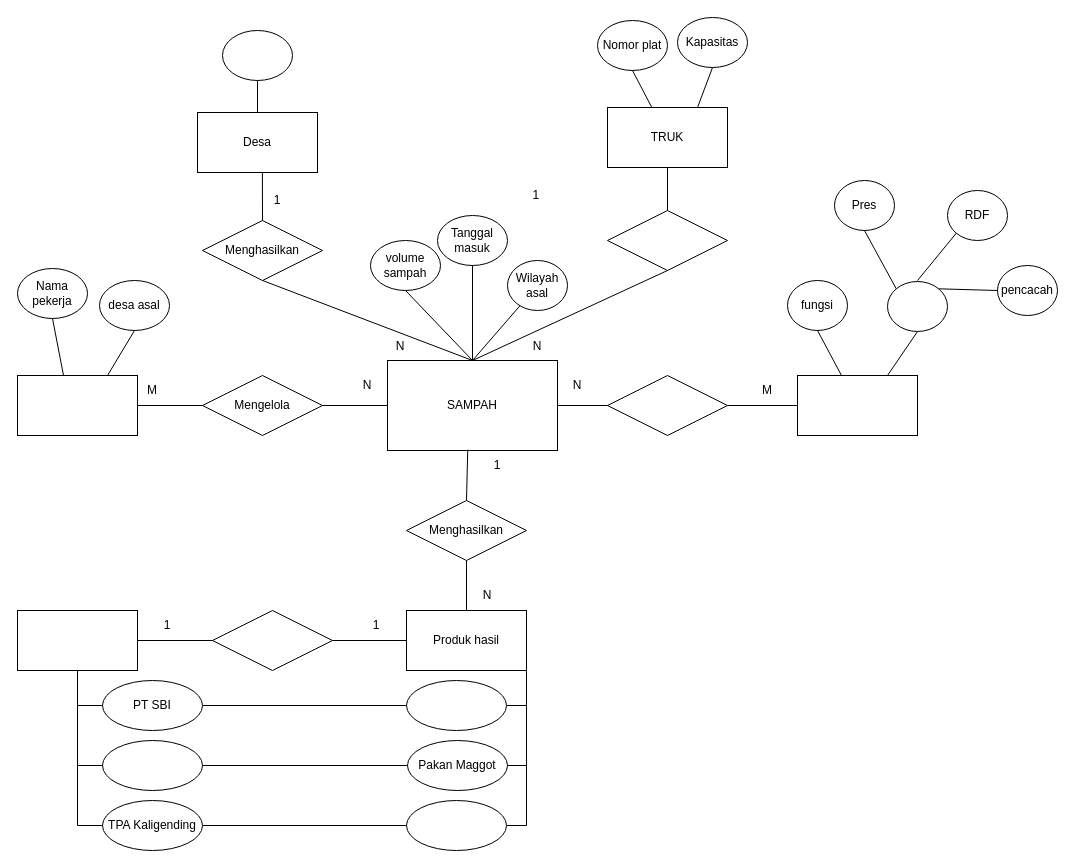
Image size: 1075x868. Some labels were removed from this diagram. Here are the shapes that lost their labels. From the top down, the box of each, then its label:
(222, 30, 292, 80): Nama Desa
(606, 210, 728, 270): Mengangkat
(886, 280, 948, 332): Nama mesin
(16, 374, 138, 436): PEKERJA
(606, 374, 728, 436): Menggunakan
(796, 374, 918, 436): MESIN PENGOLAHAN
(16, 610, 138, 670): Mitra Tujuan
(212, 610, 332, 670): Disalurkan
(406, 680, 506, 730): Briket
(102, 740, 202, 790): Peternak
(406, 800, 506, 850): Residu & Air Lindi
